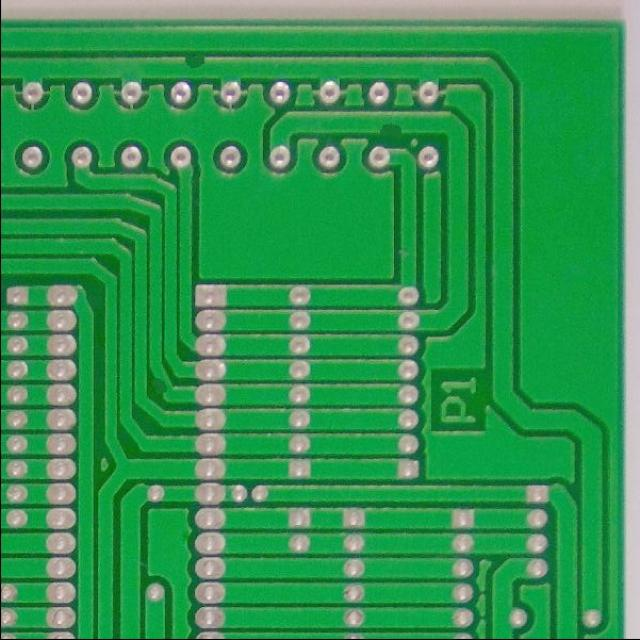MouseBite: (177, 50, 215, 70), (373, 118, 408, 138), (150, 373, 172, 397)
